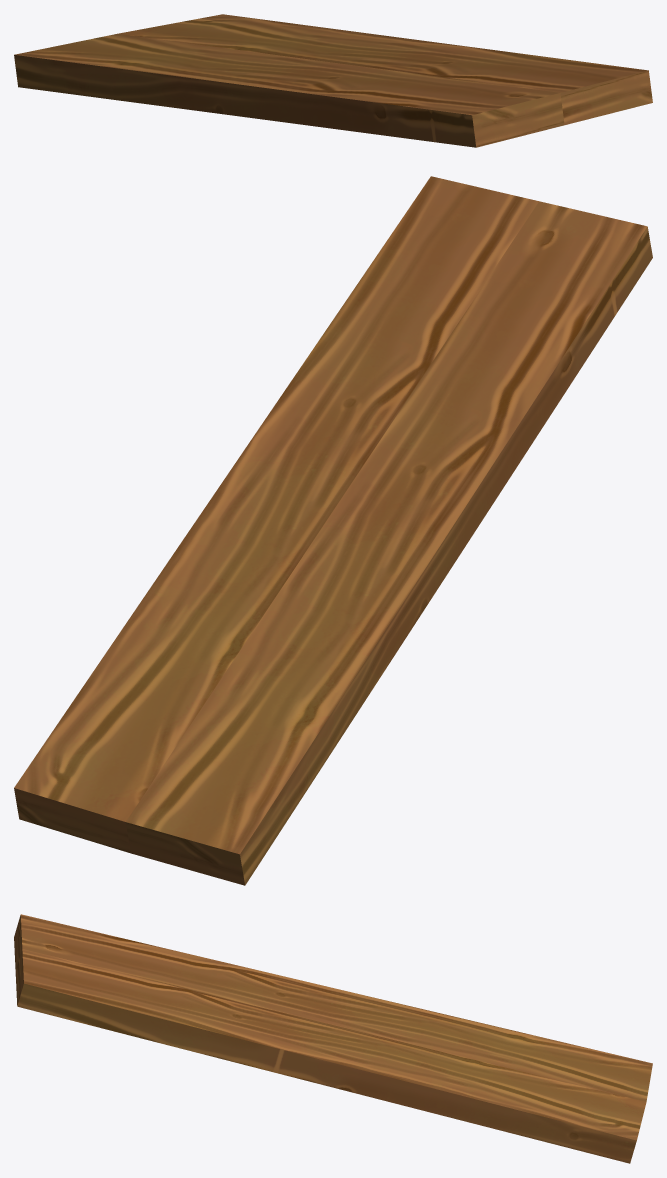
3 renders of one model, top to bottom at view 1: azimuth 30°, elevation 25°; view 2: azimuth 150°, elevation 25°; view 3: azimuth 270°, elevation 25°, orthographic. The views are drawn at different scales.
Visible parts, largest first — view 1: Cube.570; view 2: Cube.570; view 3: Cube.570.
Boxes of the visible parts, left/top/right/bottom form: Cube.570: left=14, top=14, right=652, bottom=147; Cube.570: left=14, top=176, right=652, bottom=885; Cube.570: left=14, top=914, right=652, bottom=1163.
Bounding box in the file's own units: 69.73 × 69.2 × 205.
1 material, 1 textured.
